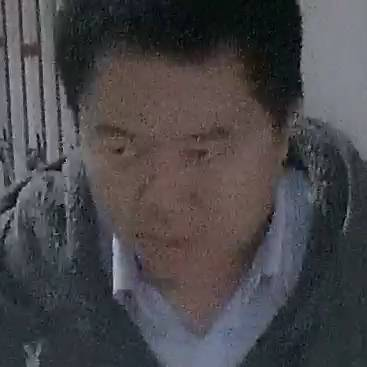cb: (42, 11, 323, 292)
